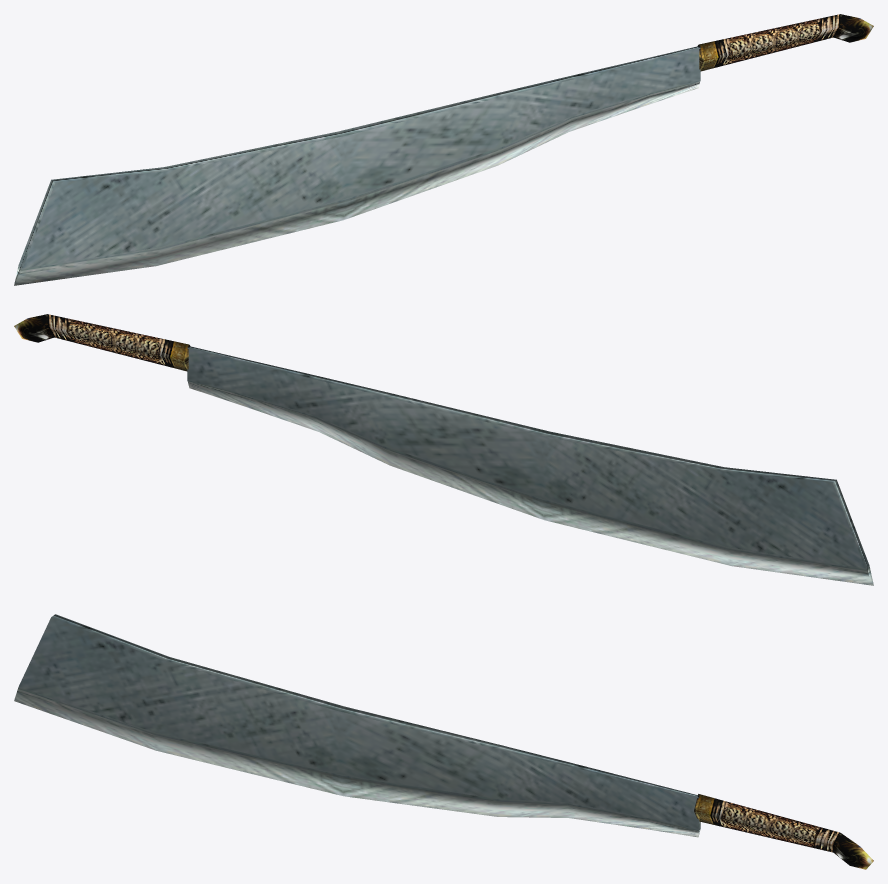
3 views of the same model, one above another, from view 1: azimuth 30°, elevation 25°; view 2: azimuth 150°, elevation 25°; view 3: azimuth 330°, elevation 25° (orthographic).
Visible parts, largest first — view 1: KLINGE; view 2: KLINGE; view 3: KLINGE.
Boxes of the visible parts, <box> form: KLINGE: <box>14,14,873,285</box>; KLINGE: <box>14,314,873,585</box>; KLINGE: <box>14,614,873,869</box>.
Size of the model in its own units: 138 by 16.8 by 2.97.
